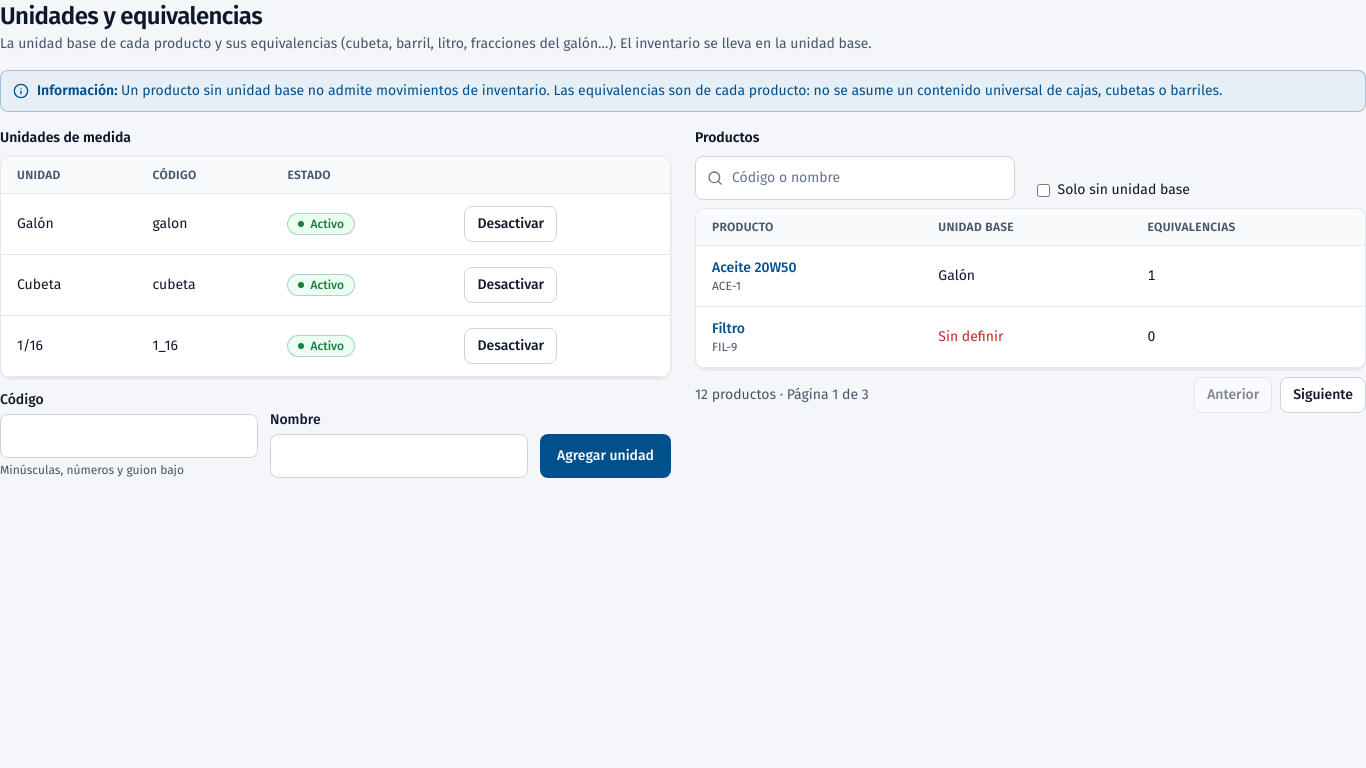
Test case: unidades y equivalencias › la edición de un producto se abre en un modal que se cierra con Escape o Cancelar, sin llevar al final de la página
This screenshot has width=1366, height=768.
Click the button "Aceite 20W50": (754, 268) [712,258,796,278]
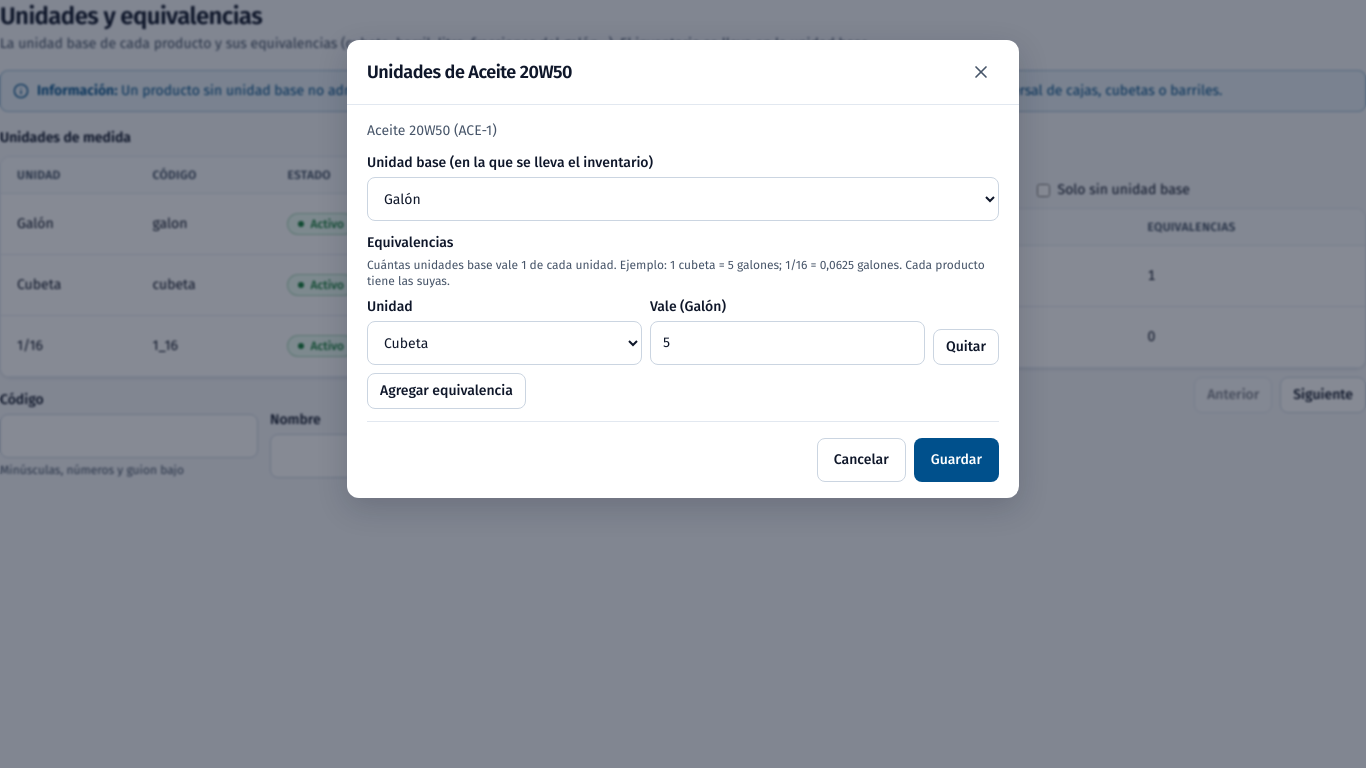
Expected: the dropdown labelled "Unidad base (en la que se lleva el inventario)" is shown, [367,177,999,221]
Press Escape
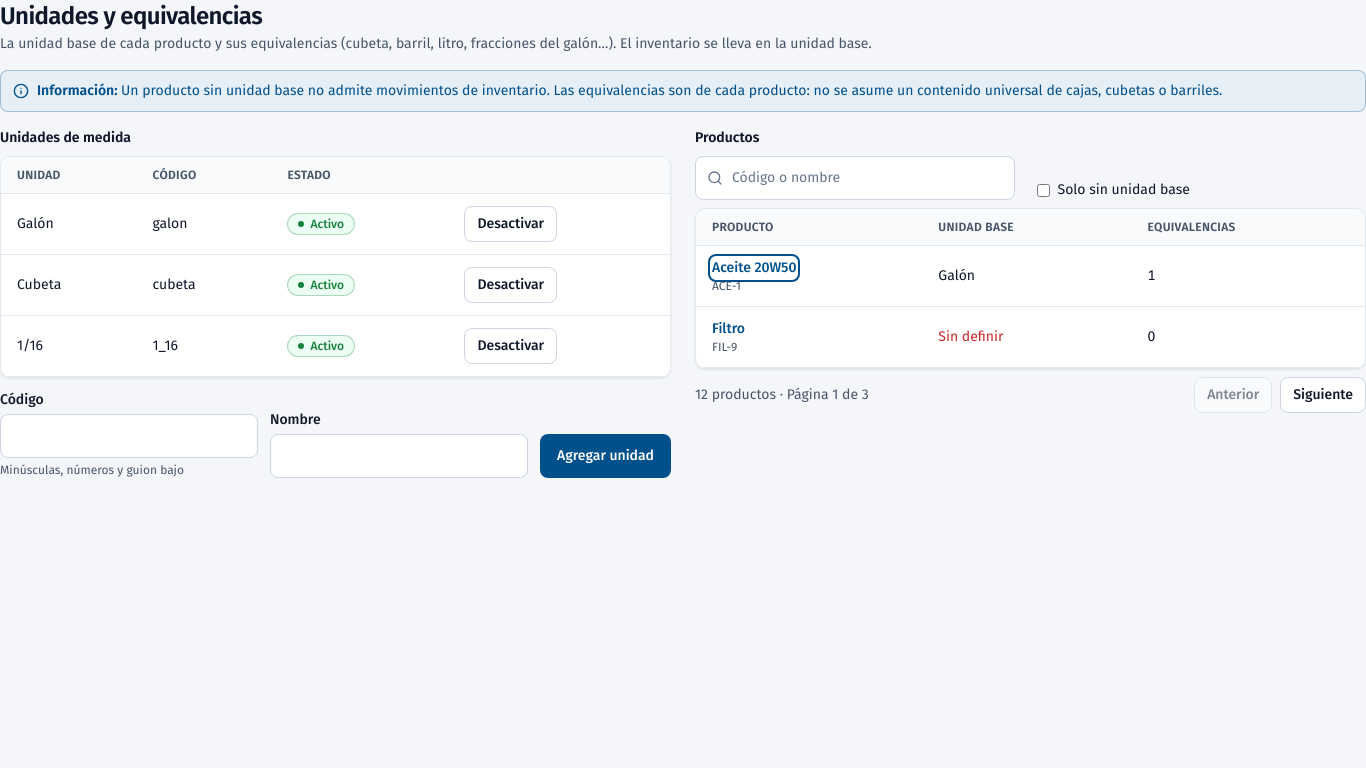
Expected: the dialog is gone
Click the row "Filtro FIL-9 Sin definir 0": (1030, 337) [696,306,1365,368]
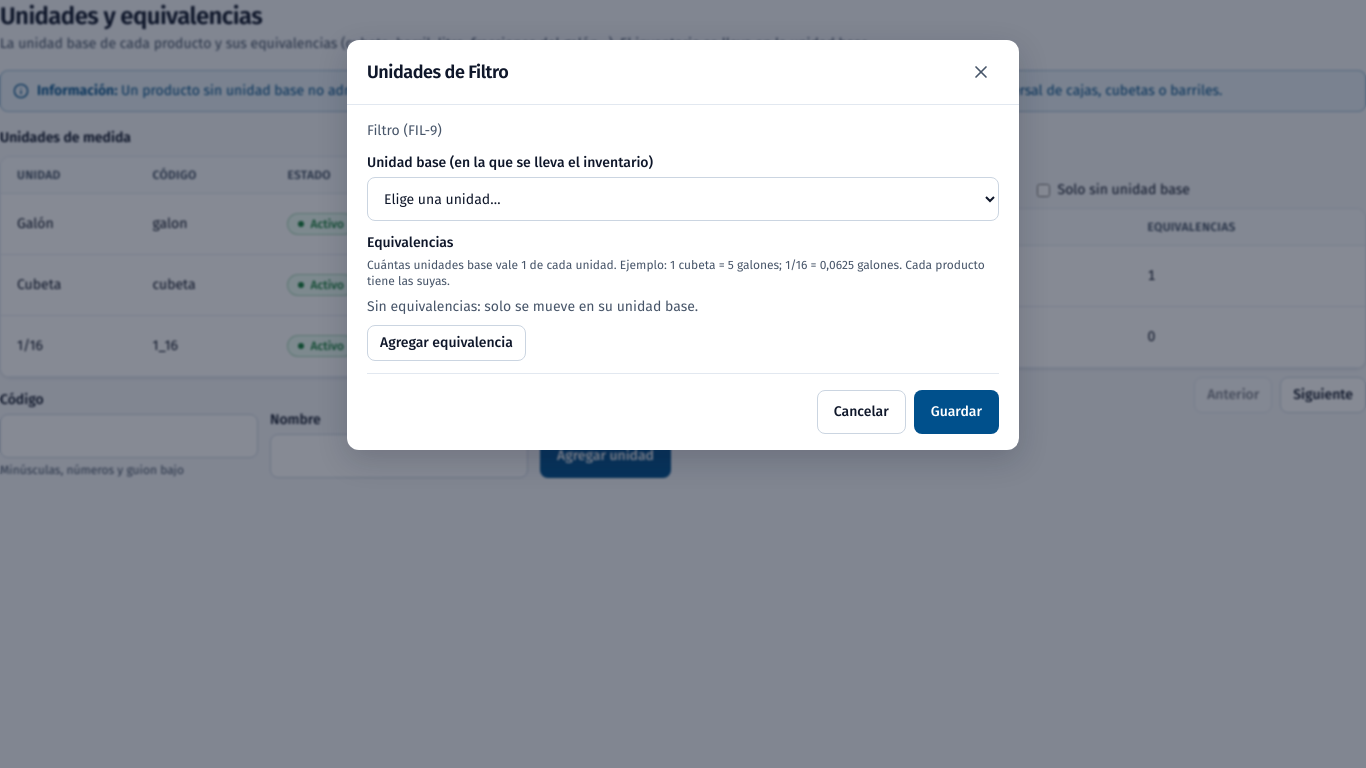
Expected: the dialog is shown, [347,40,1019,450]
Click the button "Cancelar": (861, 412) [817,390,906,434]
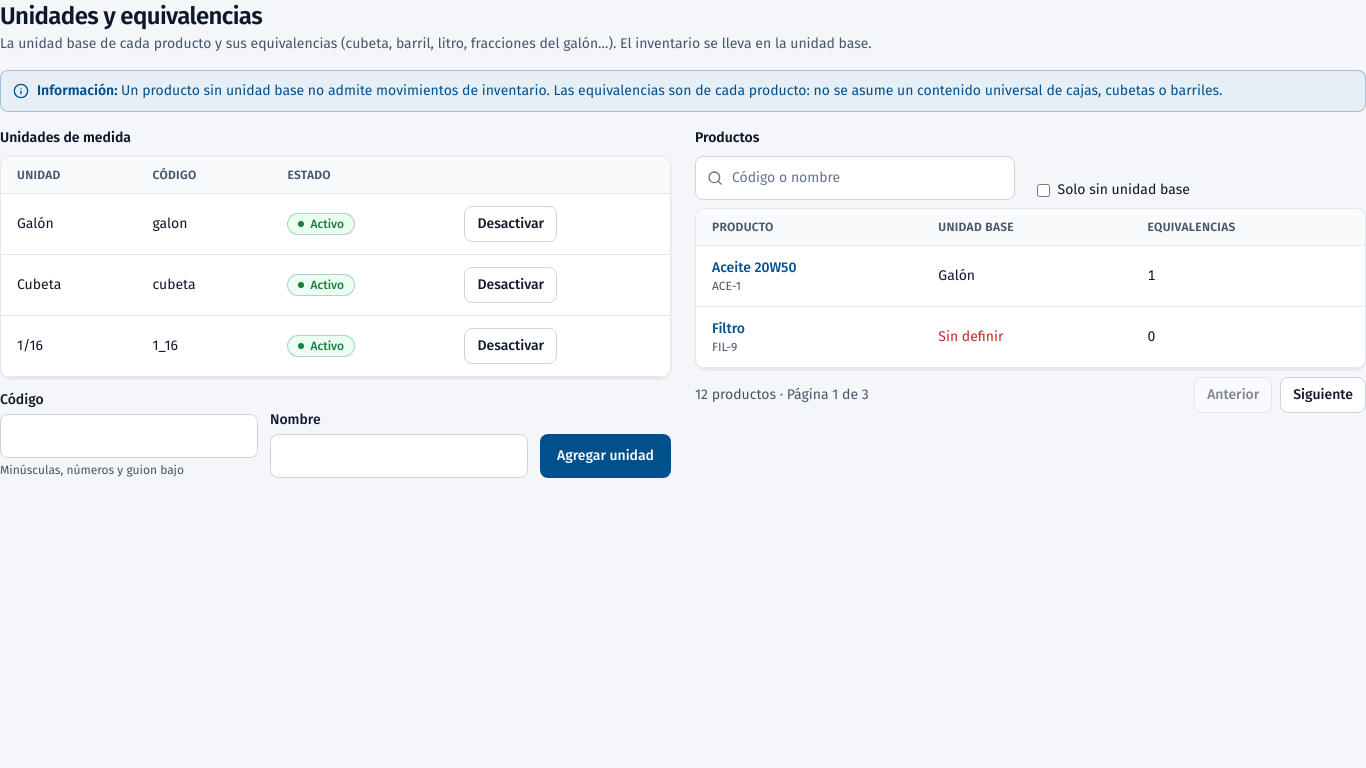
Expected: the dialog is gone
